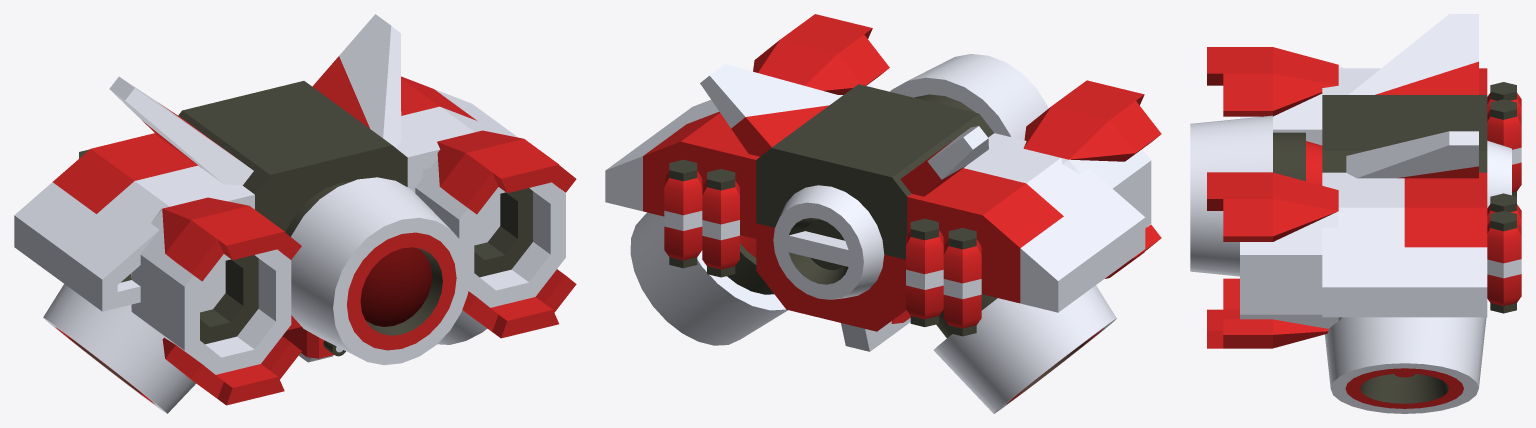
Rendered from Boss1.fbx.
3 views of the same model, side by side, from view 1: azimuth 30°, elevation 25°; view 2: azimuth 150°, elevation 25°; view 3: azimuth 270°, elevation 25° (orthographic). The views are drawn at different scales.
Visible parts, largest first — view 1: turbine_flaps (×2), engine_round (×3), engine_flat (×2), hull_body, rudder (×2), sphere_half, attachment_laser; view 2: engine_flat (×2), engine_round (×3), hull_body, turbine_flaps (×2), tank_doubleDetailed (×2), detail_ventRoundSmall, rudder (×2), attachment_laser; view 3: turbine_flaps (×2), engine_round (×2), engine_flat (×2), rudder (×2), hull_body, tank_doubleDetailed (×2), detail_ventRoundSmall.
Boxes of the visible parts, x1,y1,x2,y2 form: turbine_flaps (×2): (131, 130, 576, 405); engine_round (×3): (43, 177, 487, 413); engine_flat (×2): (14, 76, 517, 311); hull_body: (178, 81, 407, 330); rudder (×2): (109, 14, 401, 185); sphere_half: (360, 247, 432, 326); attachment_laser: (283, 327, 345, 362); engine_flat (×2): (605, 95, 1145, 312); engine_round (×3): (630, 54, 1116, 413); hull_body: (756, 84, 993, 331); turbine_flaps (×2): (753, 14, 1161, 278); tank_doubleDetailed (×2): (664, 159, 981, 336); detail_ventRoundSmall: (773, 185, 884, 299); rudder (×2): (700, 64, 988, 196); attachment_laser: (841, 310, 910, 351); turbine_flaps (×2): (1207, 47, 1344, 348); engine_round (×2): (1190, 115, 1486, 413); engine_flat (×2): (1322, 68, 1487, 317); rudder (×2): (1346, 14, 1478, 178); hull_body: (1322, 95, 1487, 172); tank_doubleDetailed (×2): (1487, 82, 1521, 313); detail_ventRoundSmall: (1487, 140, 1511, 207).
Size of the model in its own units: 30.41 by 18.67 by 20.08.
